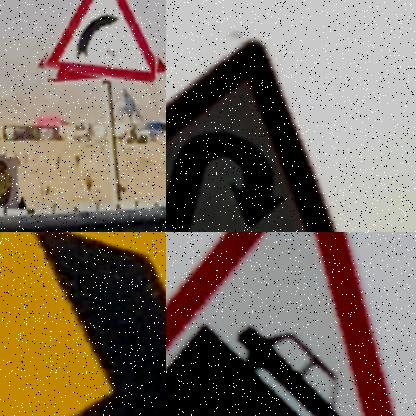Right bend: (42, 0, 155, 79)
Sharp Right Turn: (0, 232, 166, 416)
Steep Descent: (166, 232, 391, 416)
U-Turn: (166, 38, 334, 232)
